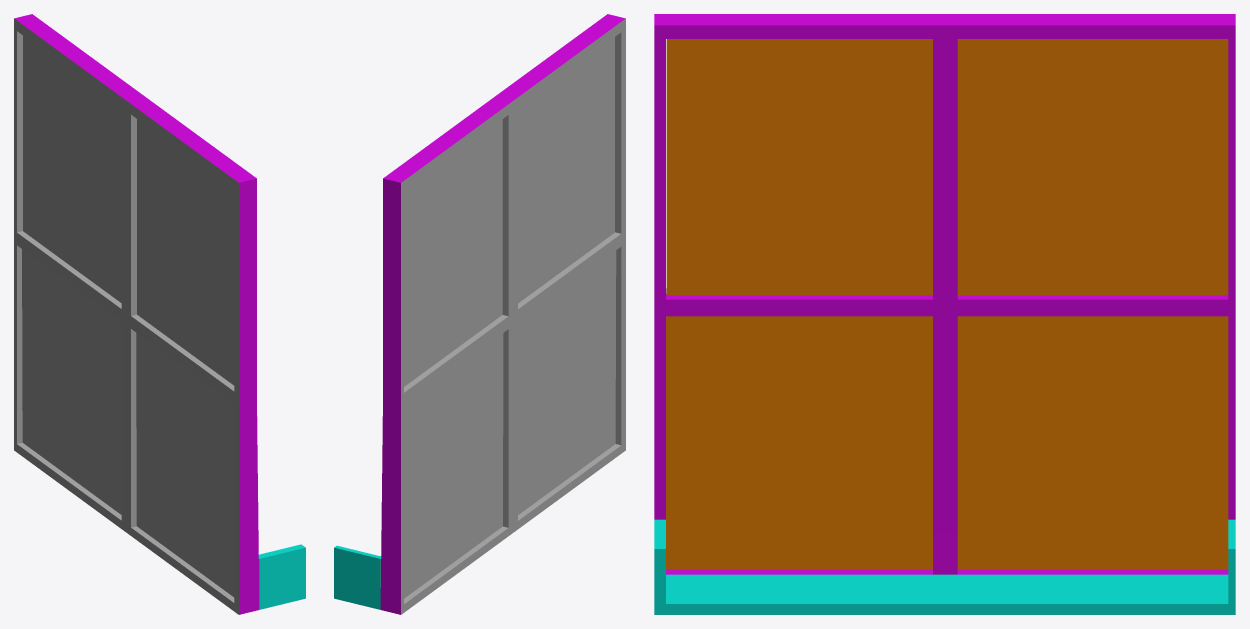
The model's file is Boarded_Window2.fbx.
3 views of the same model, side by side, from view 1: azimuth 30°, elevation 25°; view 2: azimuth 150°, elevation 25°; view 3: azimuth 270°, elevation 25° (orthographic). The views are drawn at different scales.
Visible parts, largest first — view 1: pCube111; view 2: pCube111; view 3: pCube111.
Part boxes in pixels (x1,y1,x2,y2): pCube111: (14, 14, 305, 614); pCube111: (334, 14, 625, 614); pCube111: (654, 14, 1235, 614).
Size of the model in its own units: 2.91 by 17.95 by 16.92.
